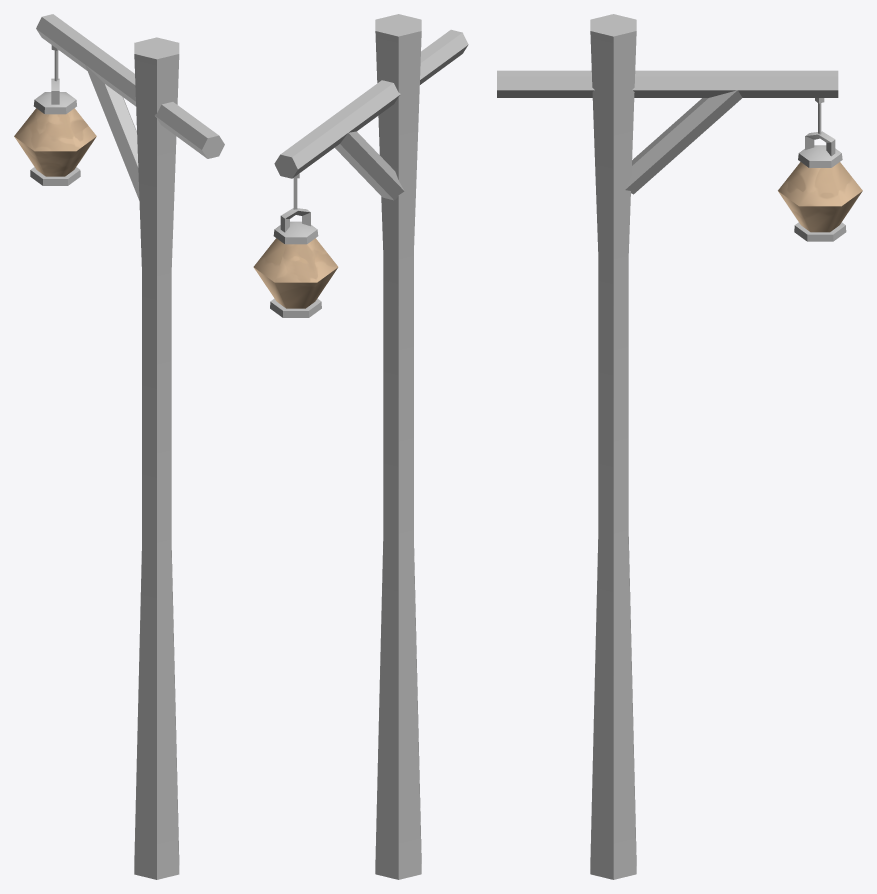
File: Lantern_1.fbx
3 renders of one model, left to right at view 1: azimuth 30°, elevation 25°; view 2: azimuth 150°, elevation 25°; view 3: azimuth 270°, elevation 25°, orthographic. The views are drawn at different scales.
Visible parts, largest first — view 1: _Lantern_1; view 2: _Lantern_1; view 3: _Lantern_1.
Boxes of the visible parts, left/top/right/bottom form: _Lantern_1: left=14, top=14, right=224, bottom=879; _Lantern_1: left=253, top=14, right=468, bottom=879; _Lantern_1: left=497, top=14, right=862, bottom=879.
Size of the model in its own units: 22.56 by 285 by 112.
